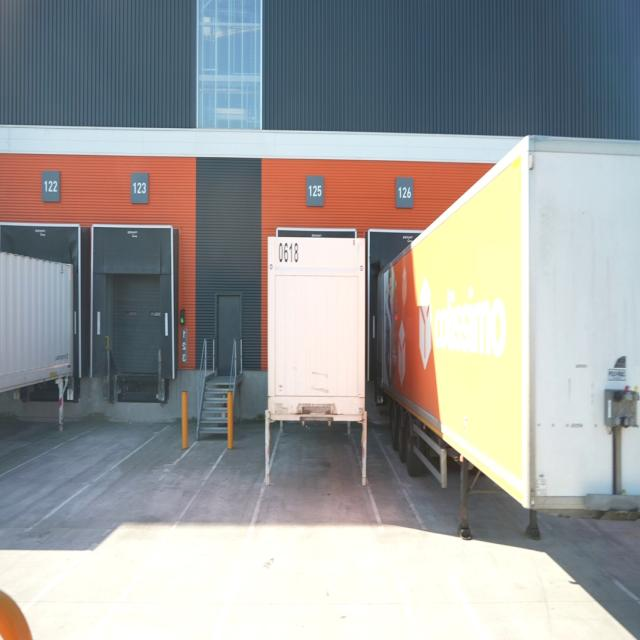Code: (277, 238, 299, 266)
